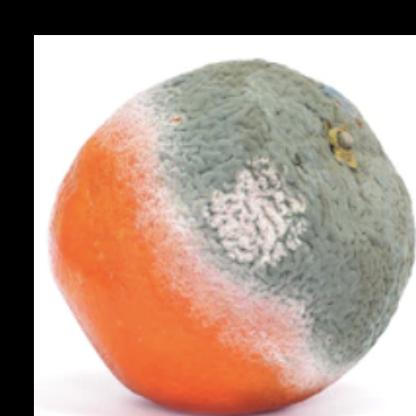rotten: (52, 58, 416, 416)
